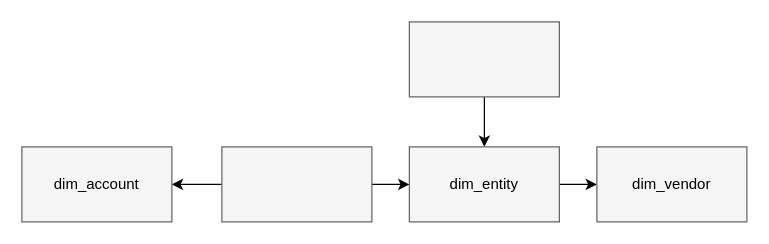
The diagram is 769 pixels wide and 244 high, and some of its shapes have lost their labels. Each missing label, with the centre of its shape:
"dim_date" belongs at (x=483, y=59).
"fact_gl" belongs at (x=296, y=184).
